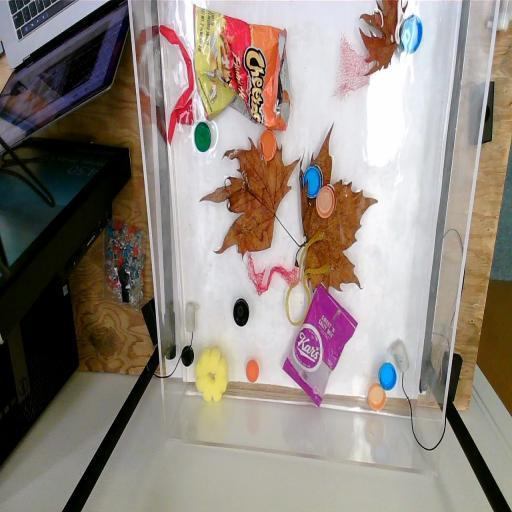Bottle Cap: (398, 12, 426, 58), (312, 182, 338, 222), (376, 357, 400, 395), (300, 159, 322, 200), (193, 118, 215, 156), (365, 380, 387, 414), (231, 296, 251, 333), (244, 354, 262, 390), (259, 124, 275, 162), (180, 343, 195, 367)
Cone Cap: (174, 106, 198, 126)
Leaf: (297, 134, 368, 296), (212, 135, 300, 263), (359, 0, 407, 73)
Netting: (328, 30, 372, 105), (244, 250, 298, 304)
Plastic Bag: (191, 0, 294, 134), (282, 280, 360, 410)
Plastic Strand: (158, 16, 196, 150), (284, 229, 332, 327)
Sponge: (194, 345, 230, 407)
